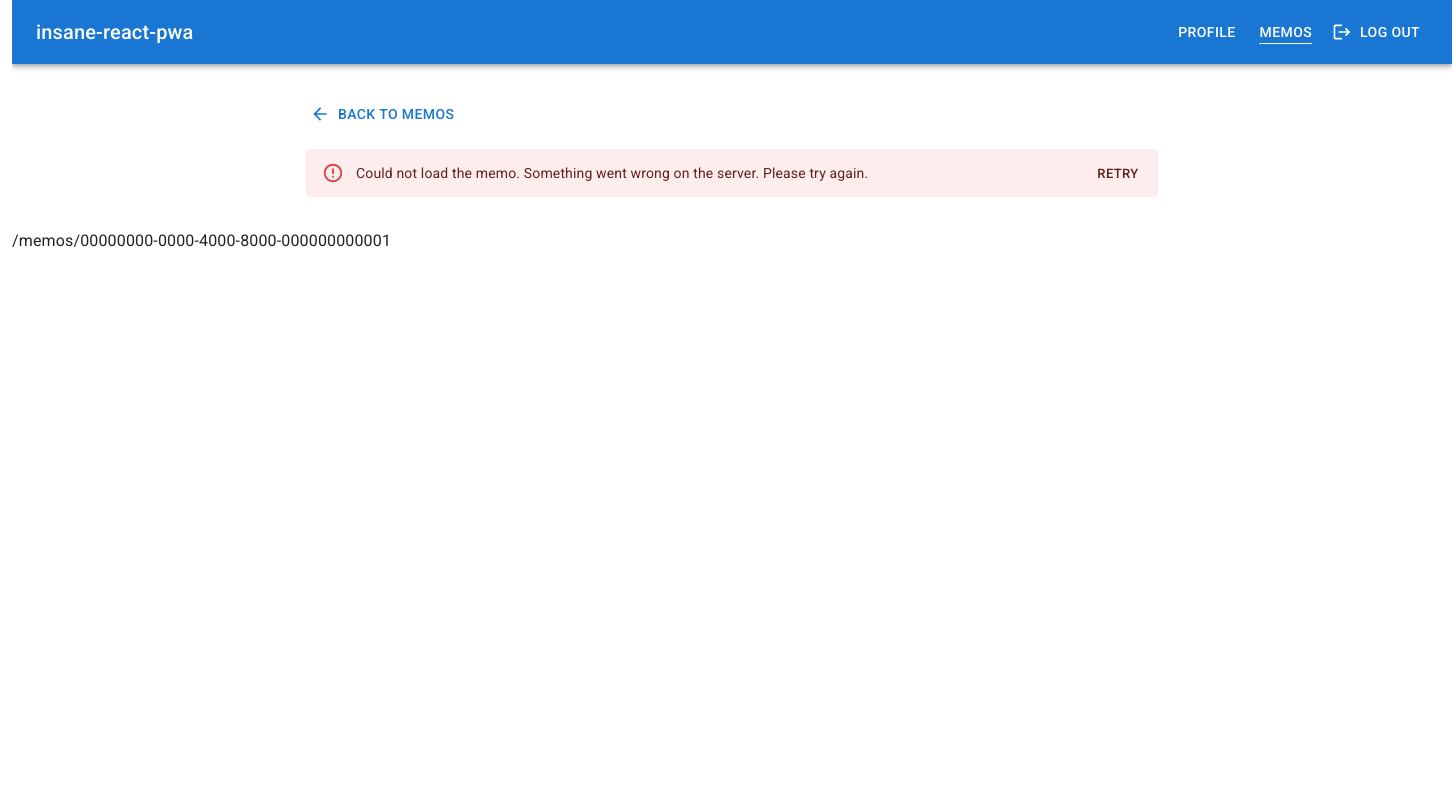
Test: MemoEditorPage › shows other load errors with a retry button
Expected: the message shows "Could not load the memo. Something went wrong on the server.", [306,148,1158,196]
Click the button "Retry": (1118, 174) [1086,158,1150,189]
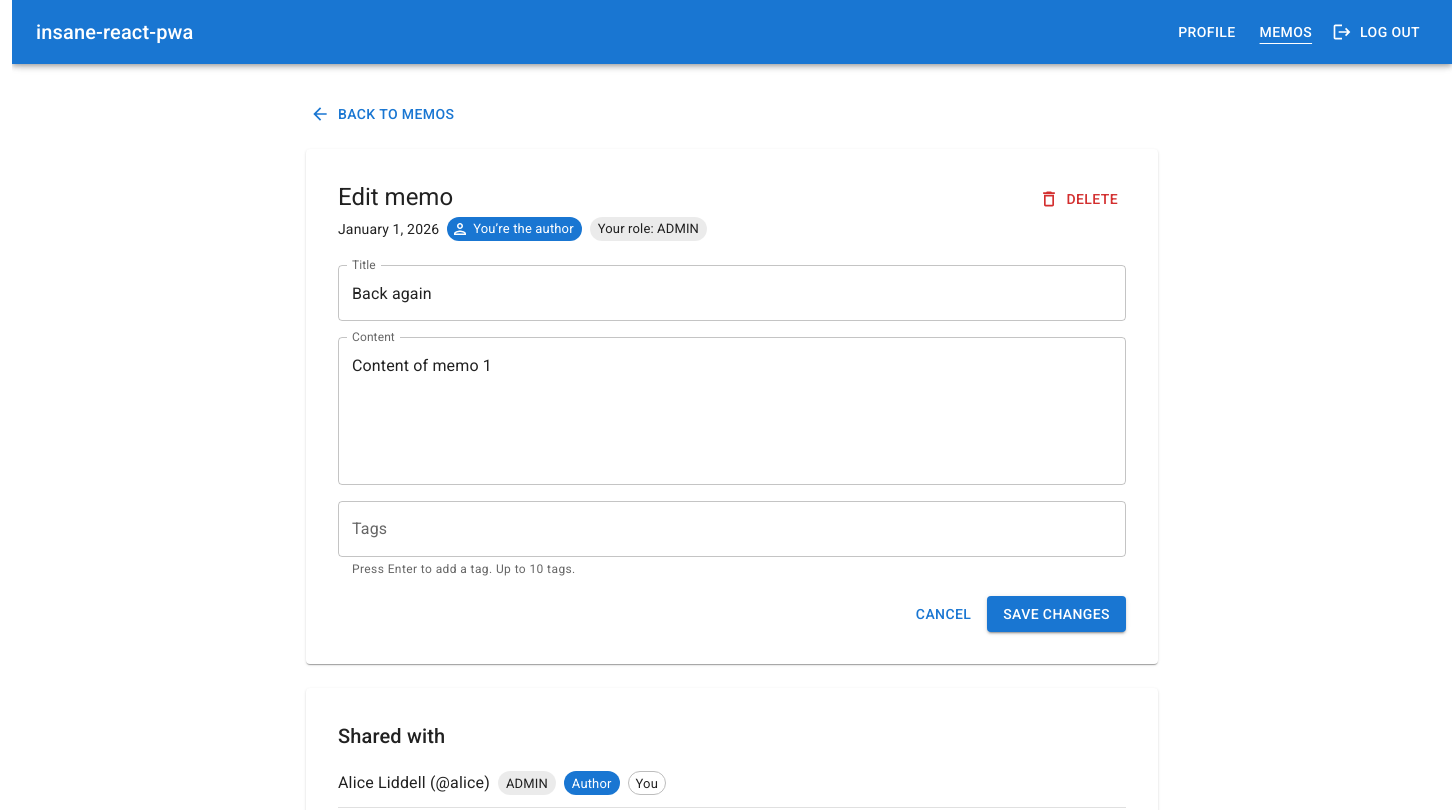
Expected: the heading "Edit memo" is shown, [338,180,453,217]
